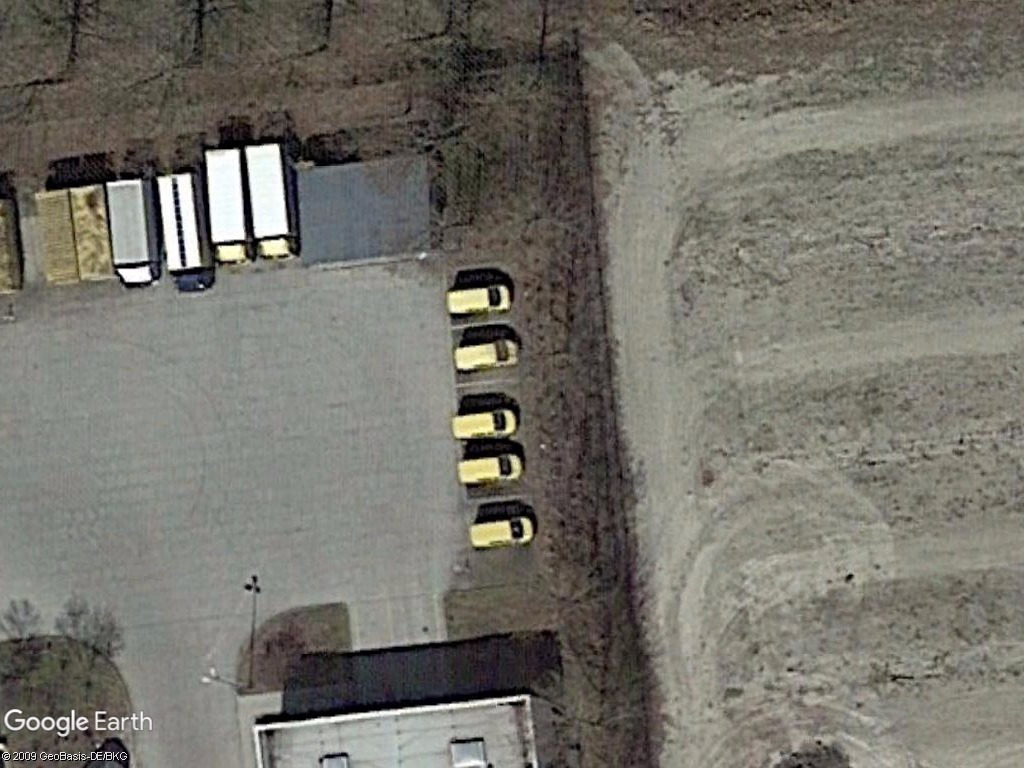truck: (151, 170, 218, 295), (243, 140, 303, 264), (201, 144, 257, 268), (101, 175, 161, 289)
van: (449, 333, 522, 380), (445, 403, 519, 445), (442, 279, 514, 322), (453, 450, 527, 489), (464, 515, 537, 554)
